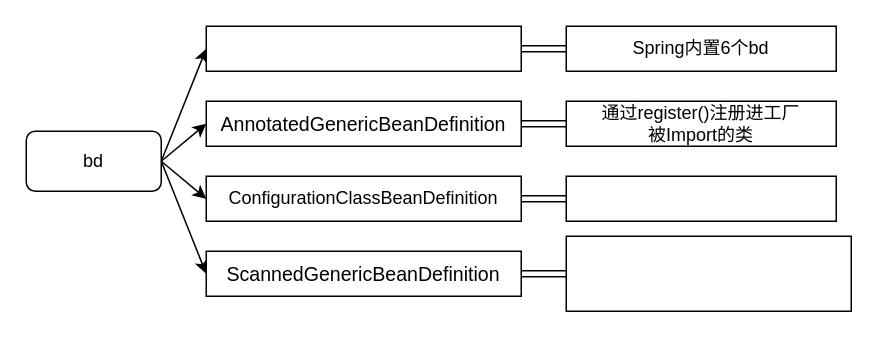
This 878x338 diagram has some shape labels left out. The centre of each missing label's shape, as x and y in pixels:
"@Bean定义的bean" belongs at pixel 700 198.
"RootBeanDefinition" belongs at pixel 363 48.
"通过scan扫描出来的类 就是spring自己通过包路径扫描的类" belongs at pixel 708 273.
